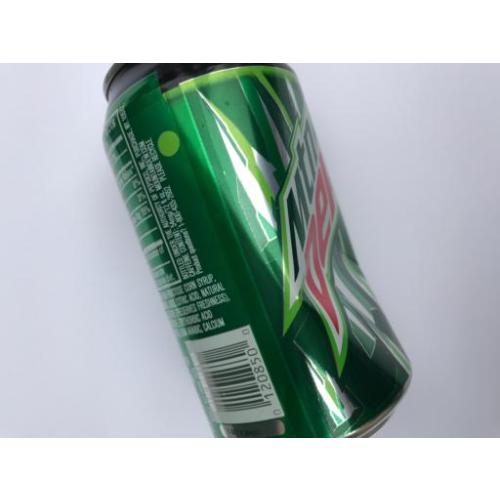metal: (103, 66, 411, 435)
